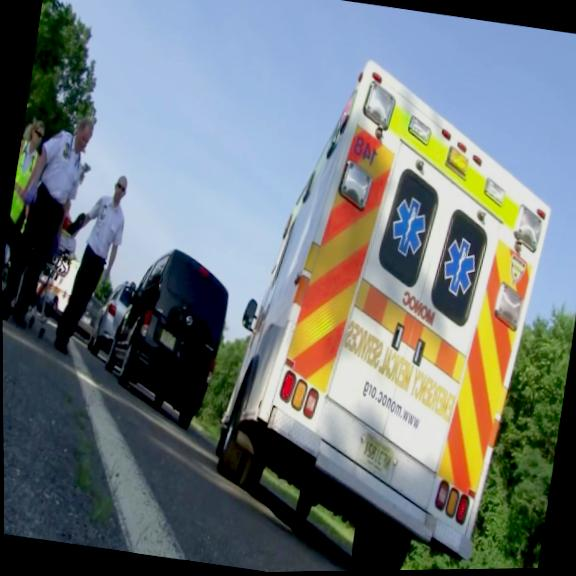safety_vest: (8, 140, 42, 225)
